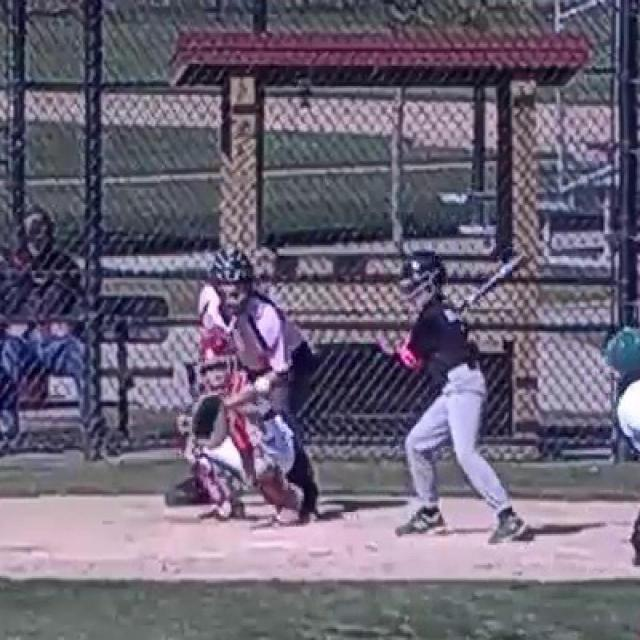baseball: (255, 378, 269, 393)
